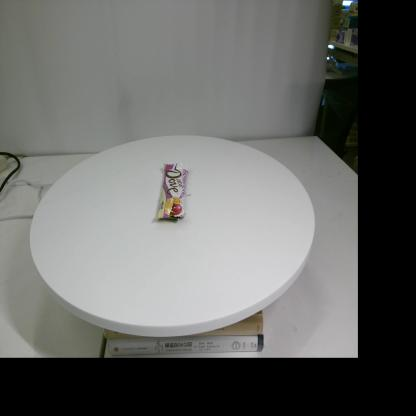Chocolate: (154, 162, 189, 220)
